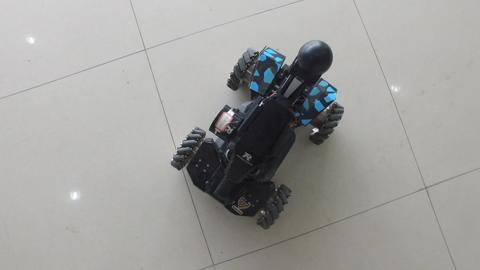chariot: (172, 37, 347, 225)
